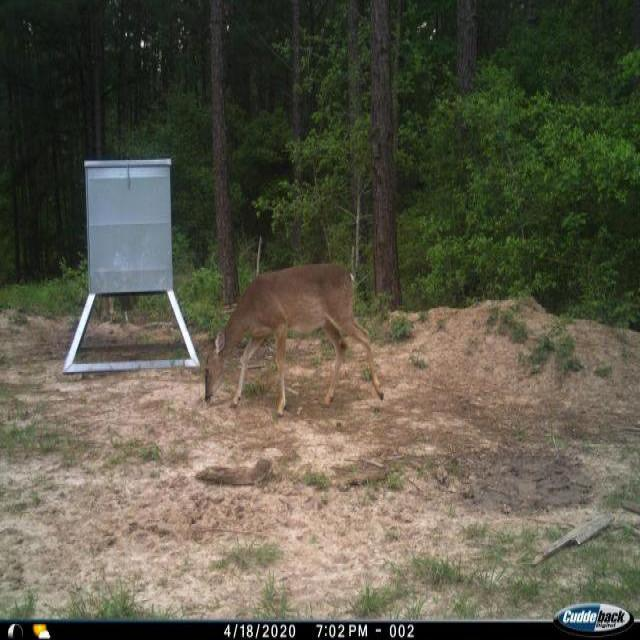deer: (198, 258, 398, 423)
